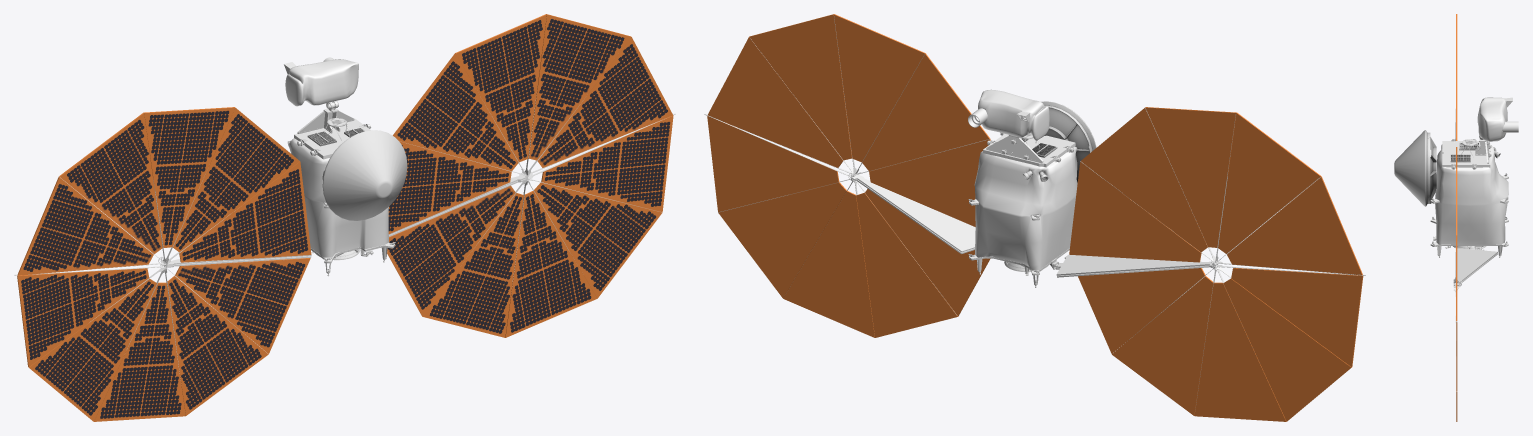
Rendered from lucy.gltf.
The picture shows the model from 3 angles, left to right: view 1: azimuth 30°, elevation 25°; view 2: azimuth 150°, elevation 25°; view 3: azimuth 270°, elevation 25°; orthographic projection. The views are drawn at different scales.
Parts seen in each view (by area): view 1: array_left.001, array_left, HGA, BUS, Lucy_Model:pCube20.001, array_left_gears, array_left_gears.001, top_platform; view 2: array_left.001, array_left, BUS, array_left_gears, array_left_gears.001, Lucy_Model:pCube20.001, HGS_base, top_platform; view 3: BUS, HGA, Lucy_Model:pCube20.001, array_left_gears, top_platform, HGS_base, array_left, luvers, array_left.001, platform_bottom, top_instruments, round_plate.
Part boxes in pixels (bbox=[...]): array_left.001: bbox=[17, 107, 311, 421]; array_left: bbox=[387, 14, 673, 337]; HGA: bbox=[323, 130, 407, 220]; BUS: bbox=[288, 138, 388, 257]; Lucy_Model:pCube20.001: bbox=[285, 59, 358, 106]; array_left_gears: bbox=[388, 95, 675, 286]; array_left_gears.001: bbox=[14, 174, 311, 380]; top_platform: bbox=[294, 108, 370, 159]; array_left.001: bbox=[1069, 107, 1363, 421]; array_left: bbox=[707, 14, 990, 337]; BUS: bbox=[974, 146, 1077, 270]; array_left_gears: bbox=[704, 16, 989, 314]; array_left_gears.001: bbox=[1054, 108, 1365, 409]; Lucy_Model:pCube20.001: bbox=[978, 89, 1049, 140]; HGS_base: bbox=[1041, 101, 1096, 182]; top_platform: bbox=[983, 134, 1075, 167]; BUS: bbox=[1435, 144, 1508, 244]; HGA: bbox=[1394, 130, 1425, 206]; Lucy_Model:pCube20.001: bbox=[1477, 97, 1507, 141]; array_left_gears: bbox=[1453, 246, 1497, 355]; top_platform: bbox=[1442, 139, 1490, 167]; HGS_base: bbox=[1425, 130, 1436, 206]; array_left: bbox=[1456, 147, 1457, 421]; luvers: bbox=[1450, 142, 1479, 162]; array_left.001: bbox=[1456, 14, 1457, 140]; platform_bottom: bbox=[1430, 218, 1508, 248]; top_instruments: bbox=[1502, 97, 1518, 132]; round_plate: bbox=[1459, 139, 1478, 157].
Bounding box in the file's own units: 15.6 × 7.07 × 3.21.
11 materials, 3 textured.
